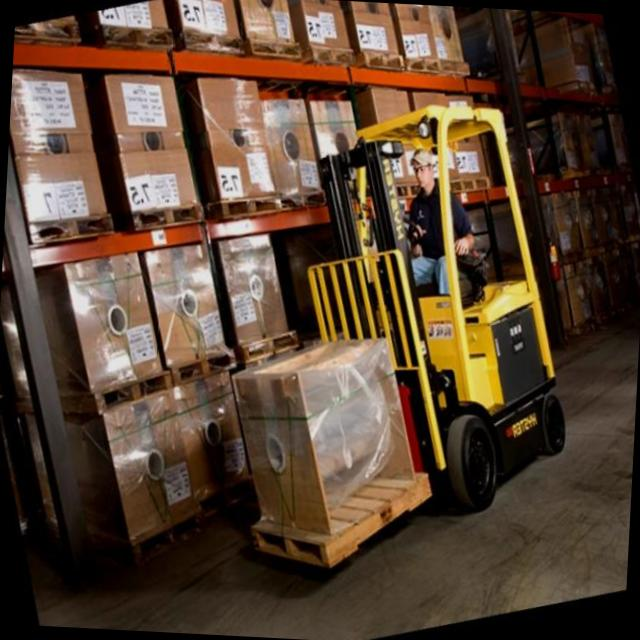driver: (381, 136, 490, 301)
forklift: (246, 41, 640, 584)
